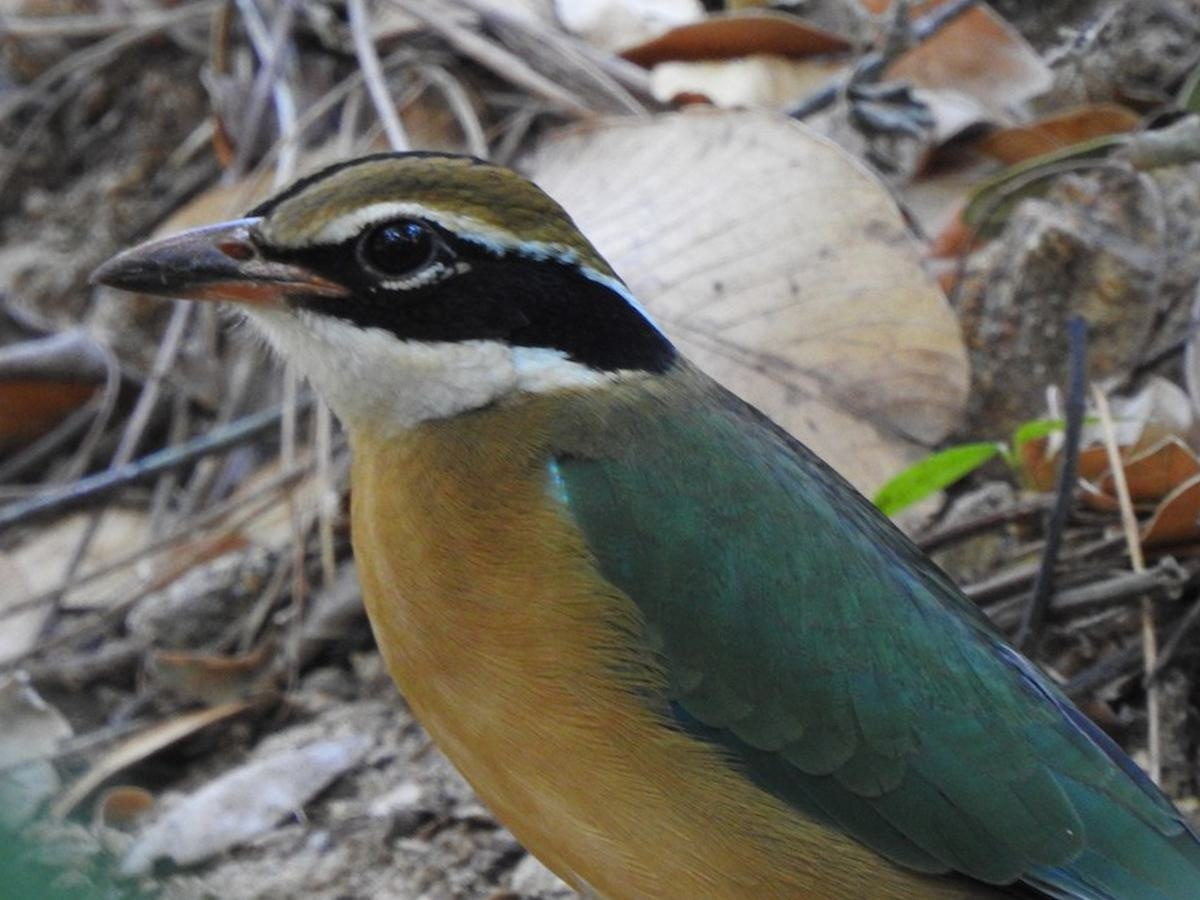pitta: (106, 153, 1024, 900)
